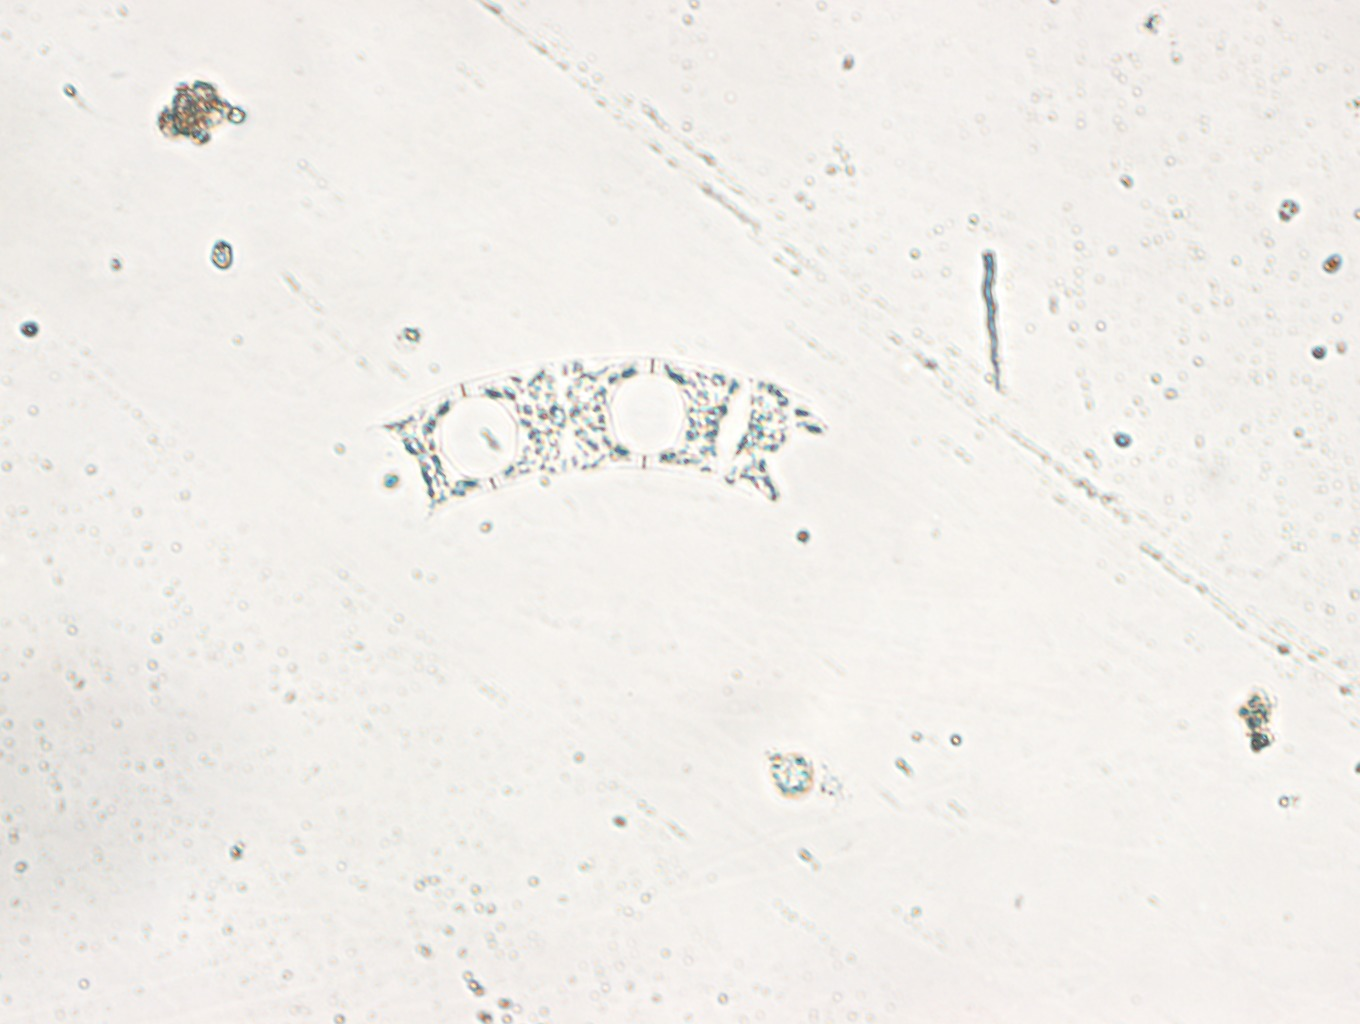eucampia: (373, 349, 829, 520)
